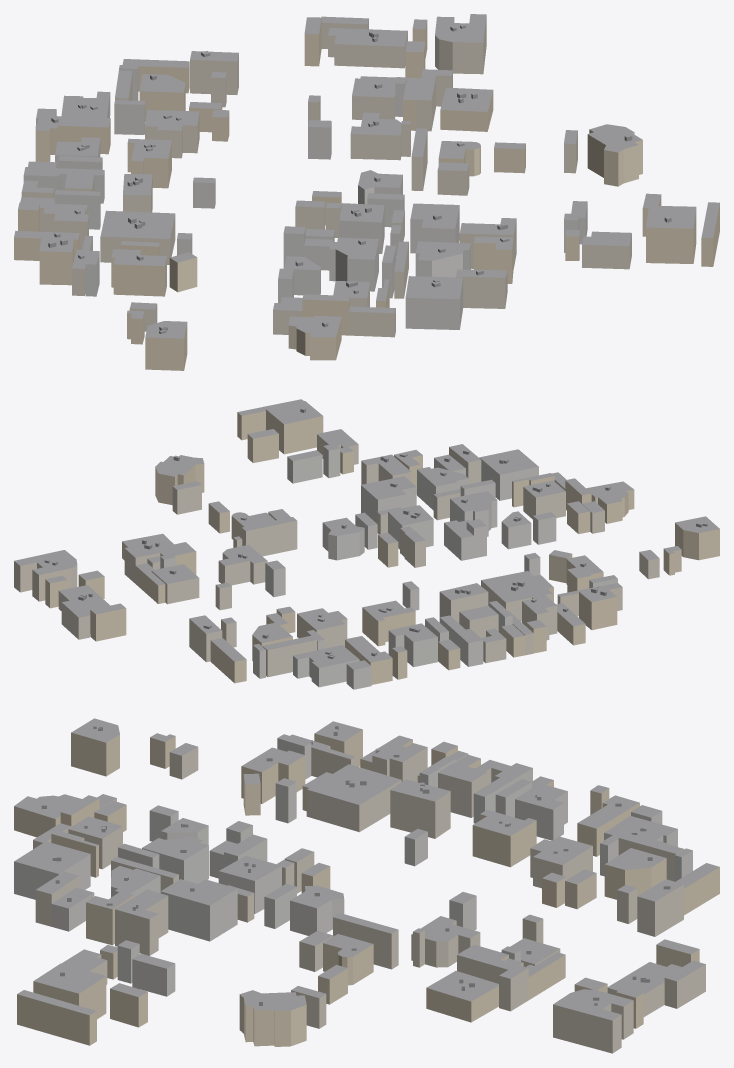
File: building_-4_-6.glb
The picture shows the model from 3 angles, top to bottom: view 1: azimuth 30°, elevation 25°; view 2: azimuth 150°, elevation 25°; view 3: azimuth 270°, elevation 25°; orthographic projection. The views are drawn at different scales.
Visible parts, largest first — view 1: roof, sandstone, concrete_warm, concrete_light; view 2: roof, sandstone, concrete_warm, concrete_light; view 3: roof, sandstone, concrete_warm, concrete_light.
Boxes of the visible parts, x1=… form: roof: x1=14, y1=14, x2=719, y2=338; sandstone: x1=14, y1=18, x2=719, y2=370; concrete_warm: x1=21, y1=16, x2=631, y2=337; concrete_light: x1=23, y1=67, x2=587, y2=329; roof: x1=14, y1=399, x2=719, y2=669; sandstone: x1=45, y1=409, x2=719, y2=684; concrete_warm: x1=14, y1=434, x2=659, y2=677; concrete_light: x1=160, y1=446, x2=617, y2=689; roof: x1=14, y1=718, x2=719, y2=1020; sandstone: x1=14, y1=729, x2=719, y2=1046; concrete_warm: x1=33, y1=746, x2=705, y2=1053; concrete_light: x1=14, y1=738, x2=692, y2=996.
Size of the model in its own units: 270 by 17.23 by 267.
